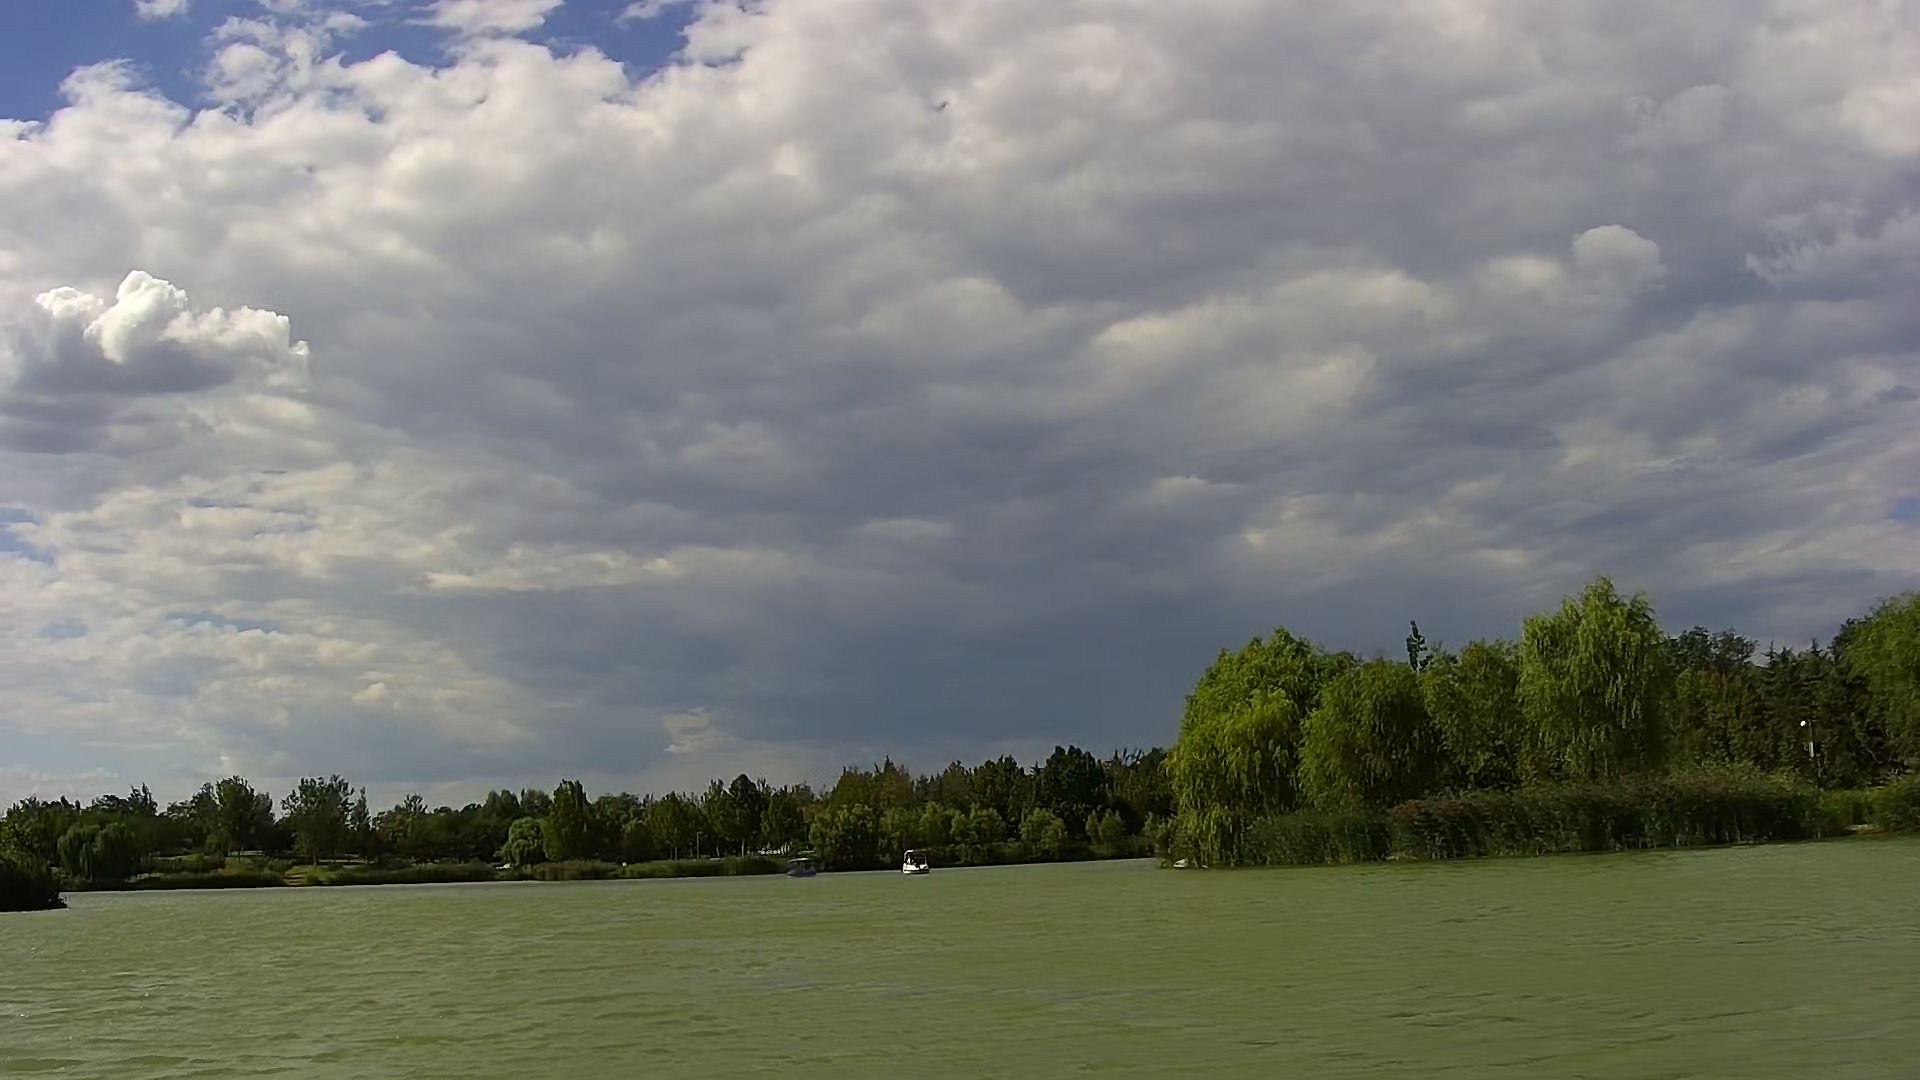boat: (899, 849, 938, 880), (783, 855, 819, 878)
